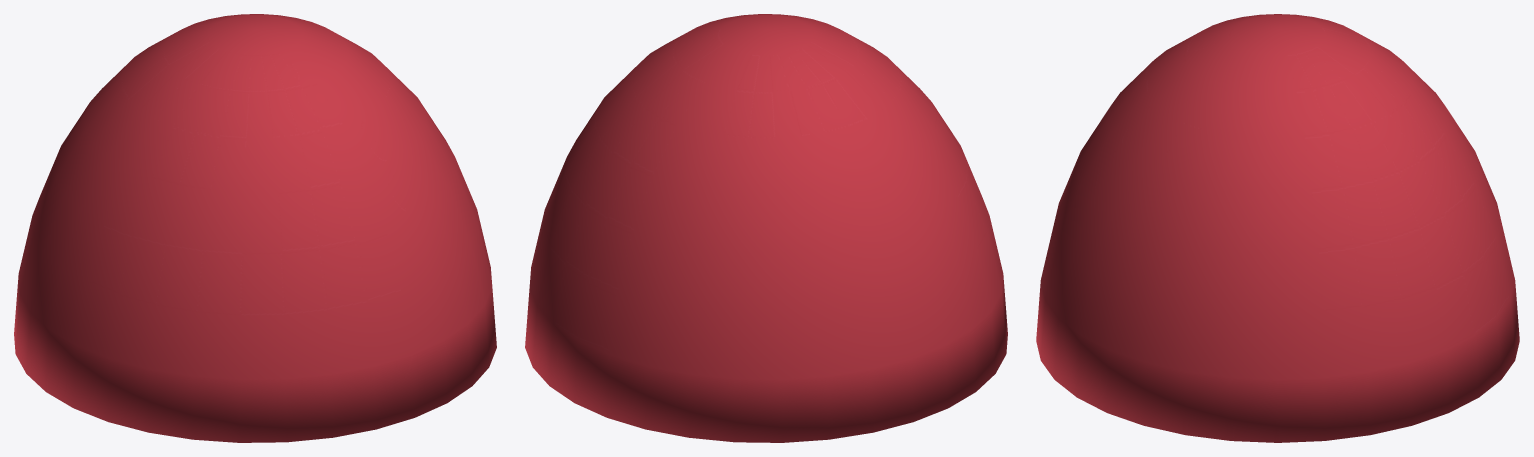
The model's file is dress_LOD0.fbx.
3 views of the same model, side by side, from view 1: azimuth 30°, elevation 25°; view 2: azimuth 150°, elevation 25°; view 3: azimuth 270°, elevation 25° (orthographic).
Parts seen in each view (by area): view 1: dress_LOD0; view 2: dress_LOD0; view 3: dress_LOD0.
Part boxes in pixels (bbox=[...]): dress_LOD0: bbox=[14, 14, 496, 442]; dress_LOD0: bbox=[525, 14, 1007, 442]; dress_LOD0: bbox=[1036, 14, 1519, 442].
Size of the model in its own units: 141 by 100 by 141.
